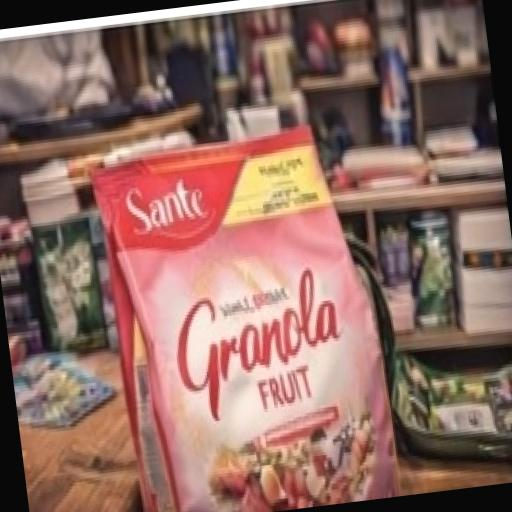granola: (32, 76, 446, 512)
